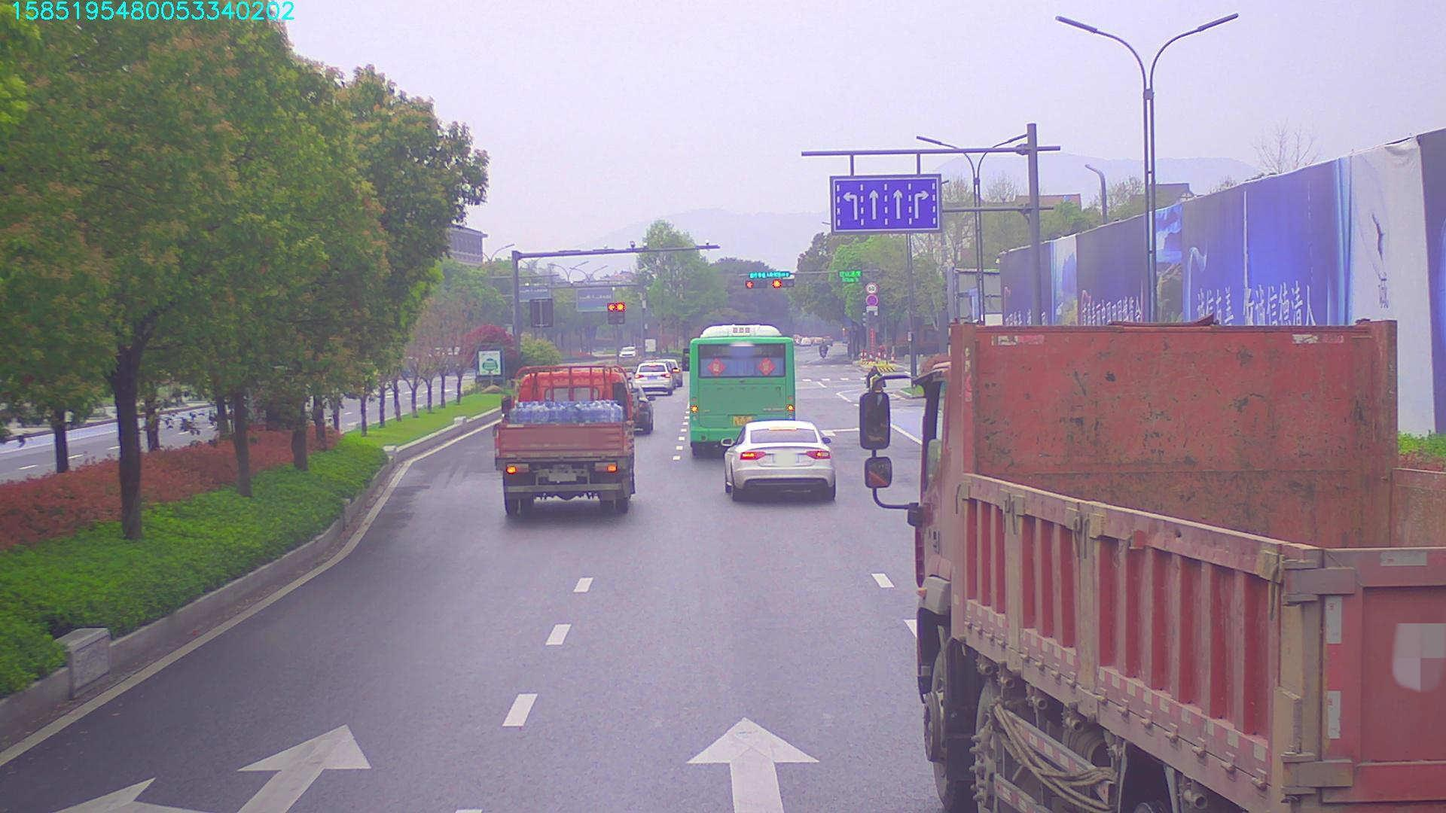red: (768, 276, 786, 291), (740, 279, 764, 290)
wait_on: (747, 268, 789, 278)
